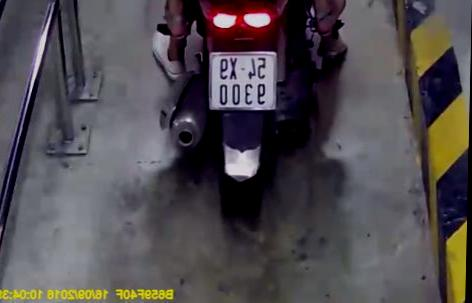License_Plate: (201, 47, 286, 119)
